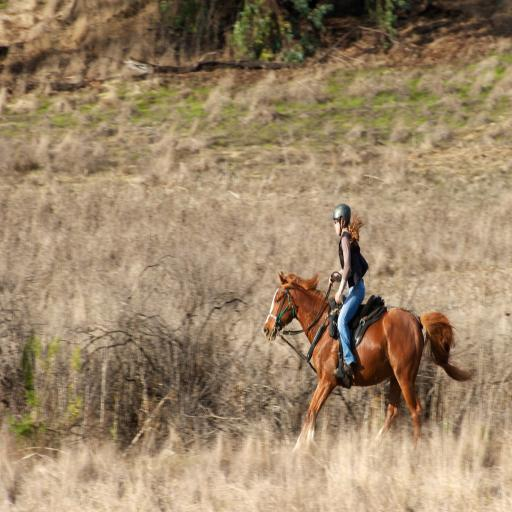horse: (261, 271, 476, 441)
